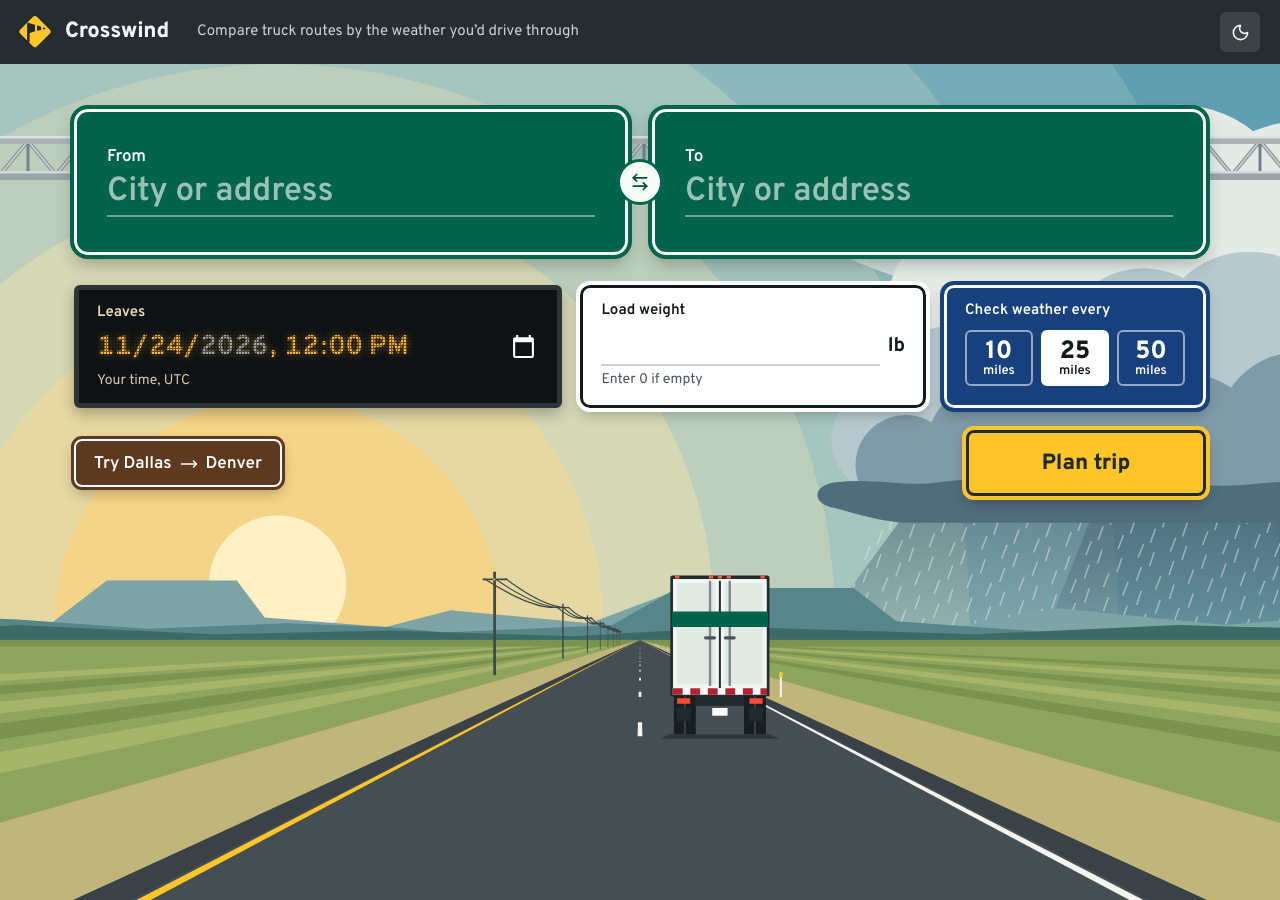
Test case: planning a trip › points at each missing field and moves focus to the first
Click the button "Plan trip" at (1086, 463), box x1=966 y1=430 x2=1206 y2=496
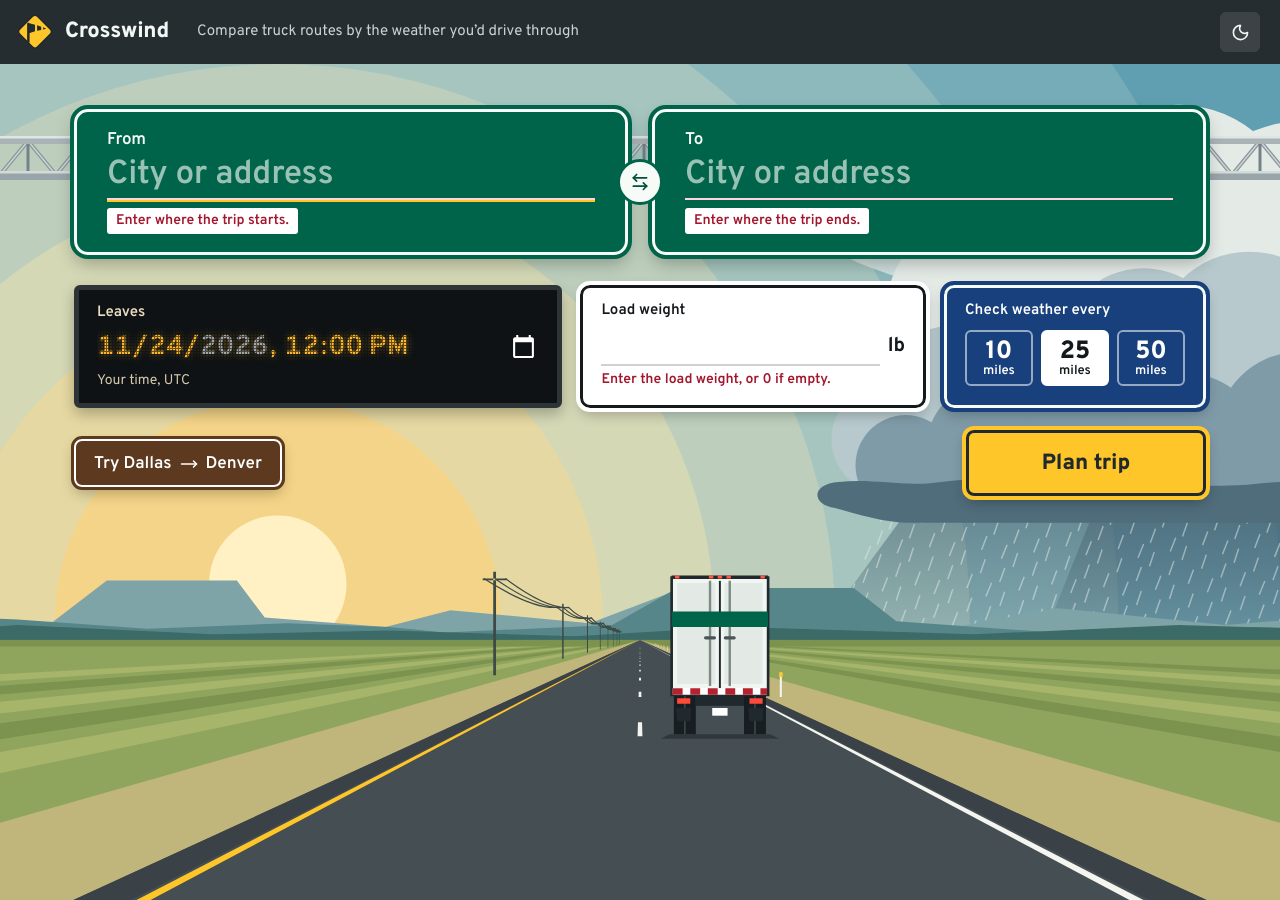
Now the text "Enter where the trip starts." is shown, box x1=107 y1=208 x2=298 y2=234
Now the text "Enter the load weight, or 0 if empty." is shown, box x1=601 y1=371 x2=830 y2=388
